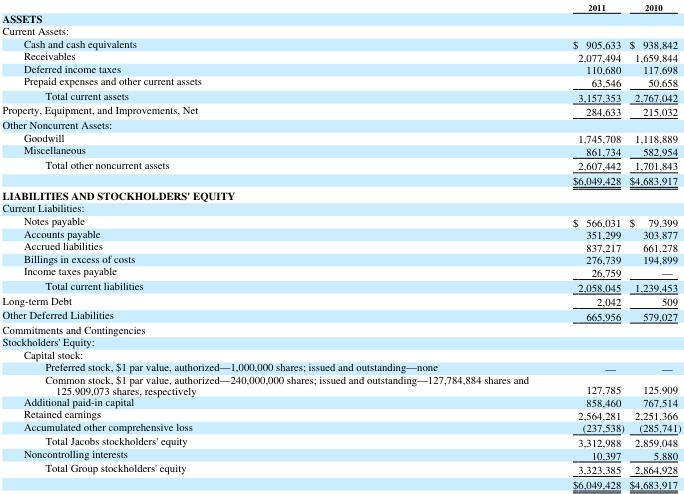table: (1, 0, 680, 490)
table column: (1, 0, 550, 490), (550, 0, 626, 490), (626, 0, 680, 490)
table column header: (1, 0, 680, 11)
table projected row header: (1, 187, 680, 201), (1, 23, 680, 36), (1, 117, 680, 130), (1, 321, 680, 334), (1, 334, 680, 347), (1, 11, 680, 23), (1, 201, 680, 213), (1, 347, 680, 359)
table row: (1, 373, 680, 395), (1, 460, 680, 476), (1, 102, 680, 117), (1, 157, 680, 172), (1, 172, 680, 187), (1, 292, 680, 307), (1, 74, 680, 88), (1, 88, 680, 102), (1, 143, 680, 157), (1, 187, 680, 201), (1, 264, 680, 278), (1, 278, 680, 292), (1, 307, 680, 321), (1, 359, 680, 373), (1, 433, 680, 447), (1, 476, 680, 490), (1, 23, 680, 36), (1, 36, 680, 49), (1, 49, 680, 62), (1, 117, 680, 130), (1, 130, 680, 143), (1, 213, 680, 226), (1, 226, 680, 239), (1, 239, 680, 252), (1, 321, 680, 334), (1, 334, 680, 347), (1, 407, 680, 420), (1, 420, 680, 433), (1, 447, 680, 460), (1, 11, 680, 23), (1, 62, 680, 74), (1, 201, 680, 213), (1, 252, 680, 264), (1, 347, 680, 359), (1, 395, 680, 407), (1, 0, 680, 11)
